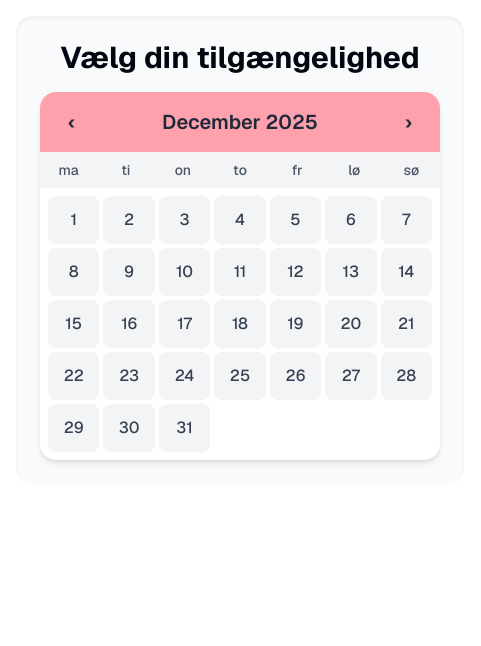
Test: AvailabilityPage › saving sends toggleAvailability requests
This screenshot has width=481, height=646.
expect the heading "Vælg din tilgængelighed" is shown: met, box [40,40,440,76]
Press the mouse on the button "1": (74, 220) [48,196,99,244]
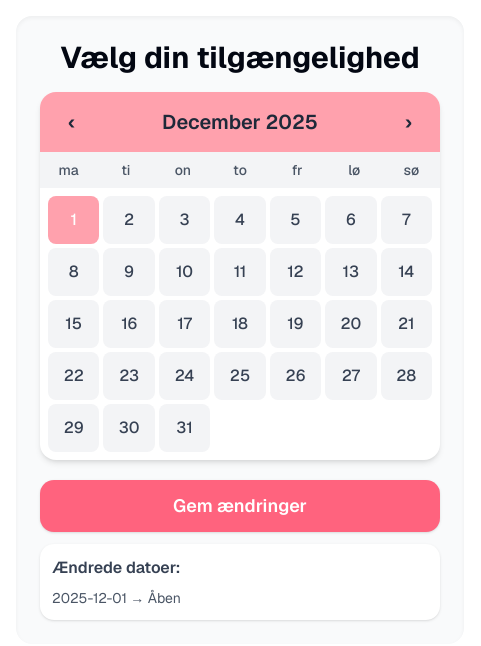
Click the button "Gem ændringer": (240, 506) [40,480,440,532]
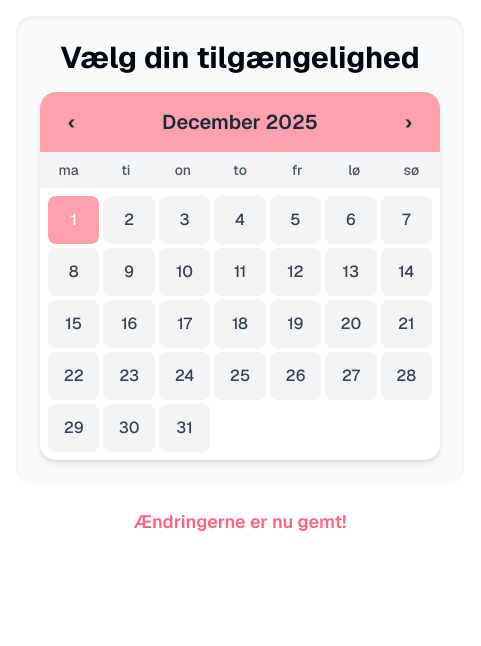
expect the text "Ændringerne er nu gemt!" is shown: met, box [134,508,346,536]
